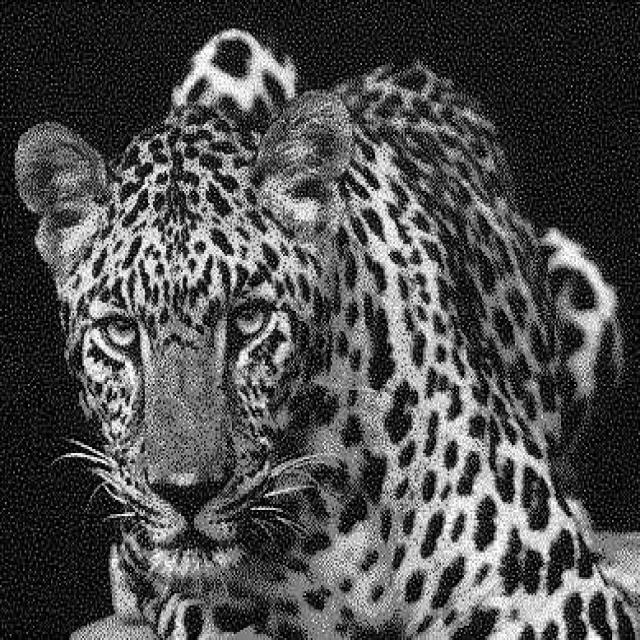Leopard: (11, 26, 638, 638)
